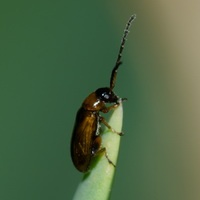insect: (71, 15, 135, 171)
